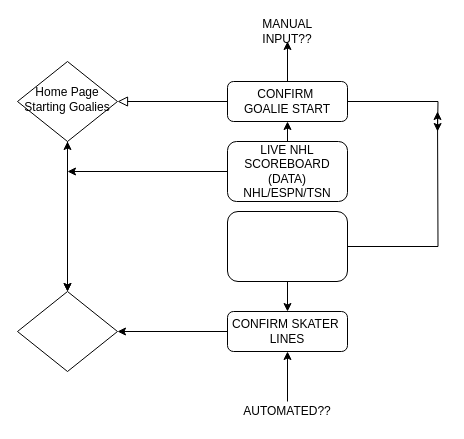
Image size: 464x439. Some labels were removed from this diagram. The box of each missing label's shape, as (x1, y1, x2, y2) in pixels:
LINE UP CONFIRMATION (DATA) NHL/TWITTER: (226, 210, 348, 282)
LINE UP TWEETS: (16, 290, 118, 372)
